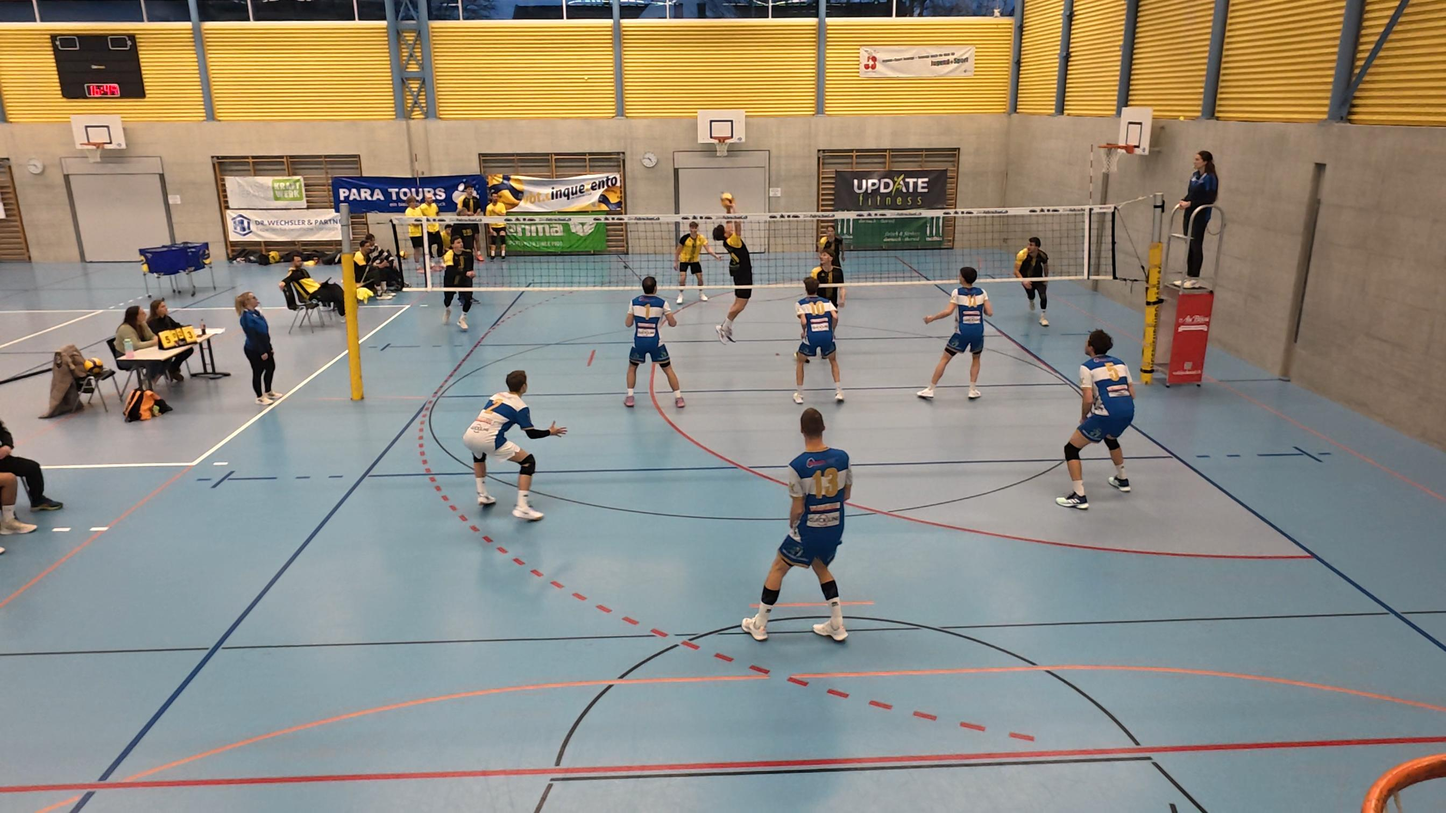muro: (709, 203, 759, 346)
